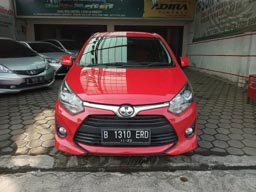plat: (101, 129, 150, 139)
